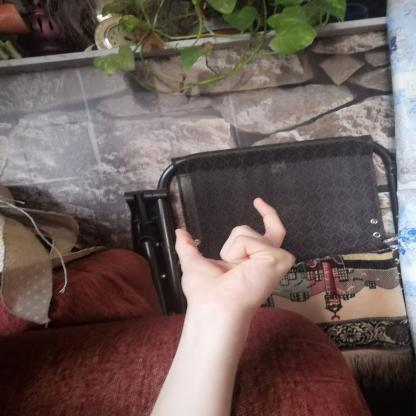NOON: (162, 188, 312, 324)
